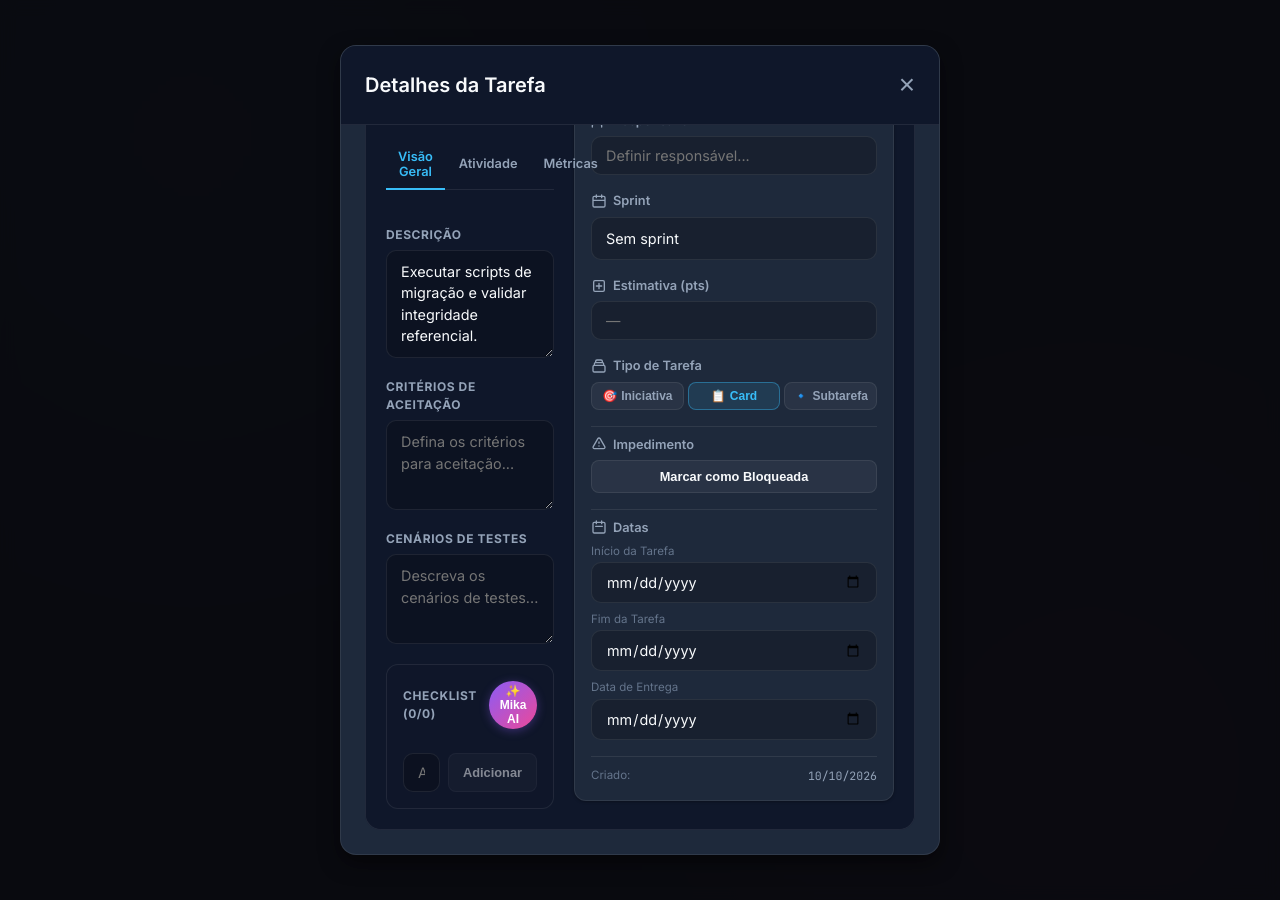
Scenario: TaskDetailsModal Mika Integration (US2) › deve exibir o botão da Mika AI no cabeçalho do checklist e abrir o assistente ao clicar
(page scrolled)
Click the button "✨ Mika AI": (513, 705) [489, 681, 537, 729]
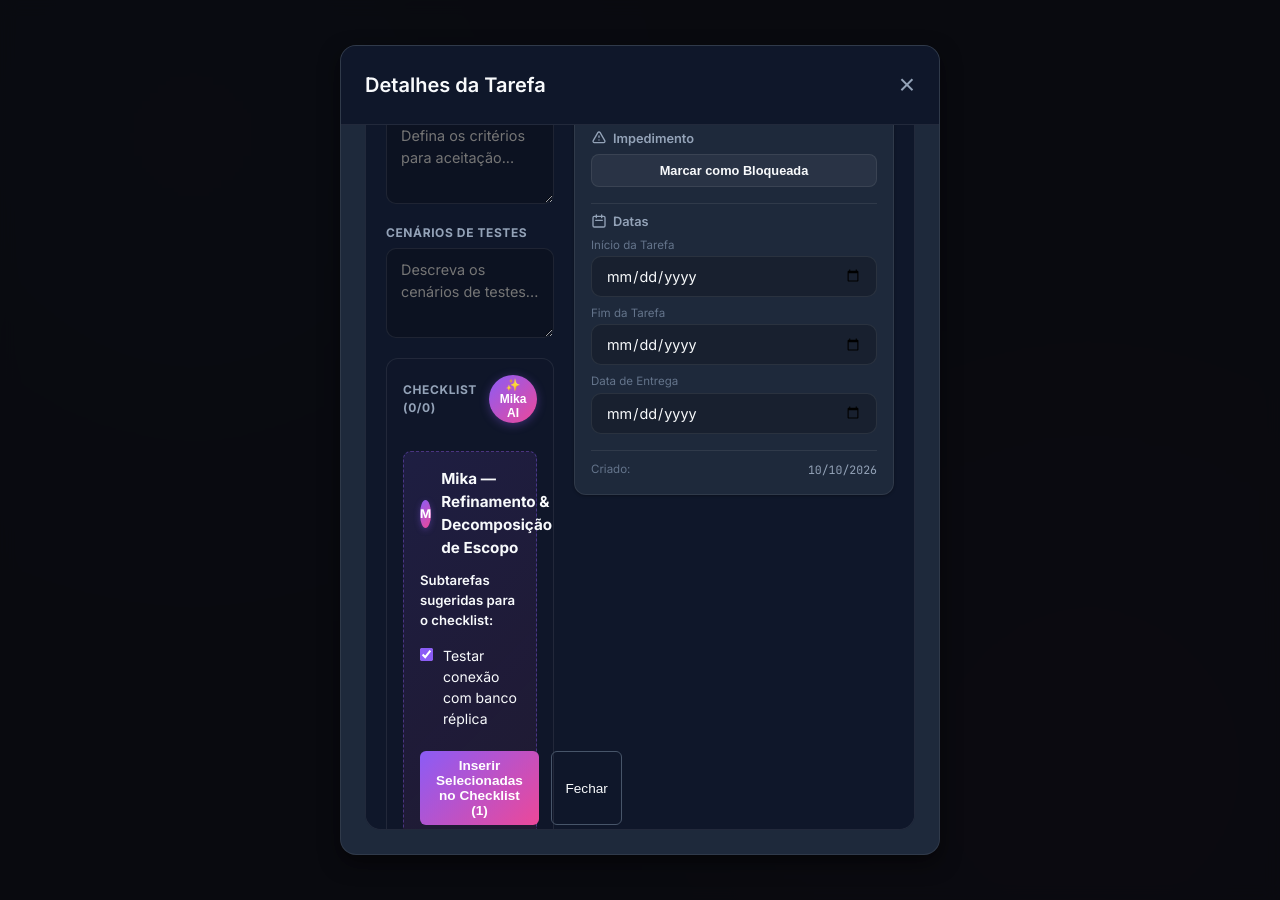
Now the element named "Assistente de Refinamento da Mika" is shown, box [403, 451, 537, 830]
